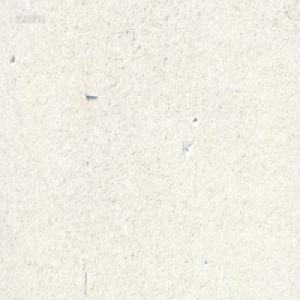Nail: (84, 90, 97, 98)
